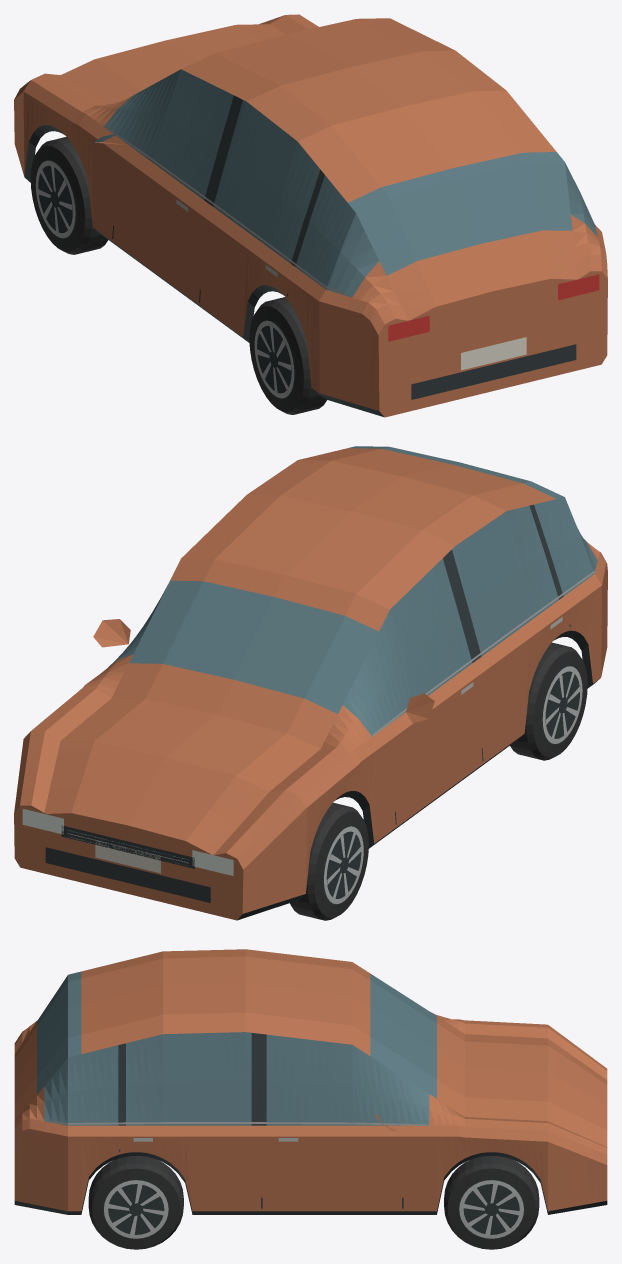
File: compact.glb
3 renders of one model, top to bottom at view 1: azimuth 30°, elevation 25°; view 2: azimuth 150°, elevation 25°; view 3: azimuth 270°, elevation 25°, orthographic. The views are drawn at different scales.
Bounding box in the file's own units: 2 × 1.49 × 3.78.
